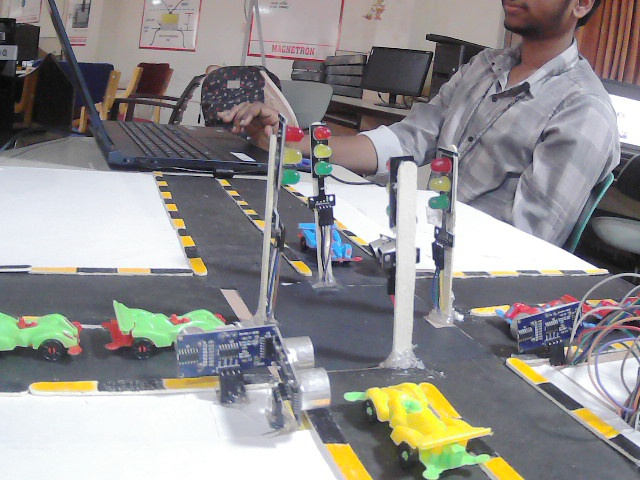car: (346, 377, 489, 478), (104, 301, 236, 358), (0, 315, 81, 360), (295, 219, 353, 279), (504, 296, 598, 330)
traffic_light: (423, 152, 467, 242), (301, 127, 347, 186), (279, 124, 311, 202), (377, 155, 403, 229)
uno_breadboard: (177, 334, 287, 393), (268, 341, 336, 434), (516, 315, 615, 357), (370, 233, 427, 272)
